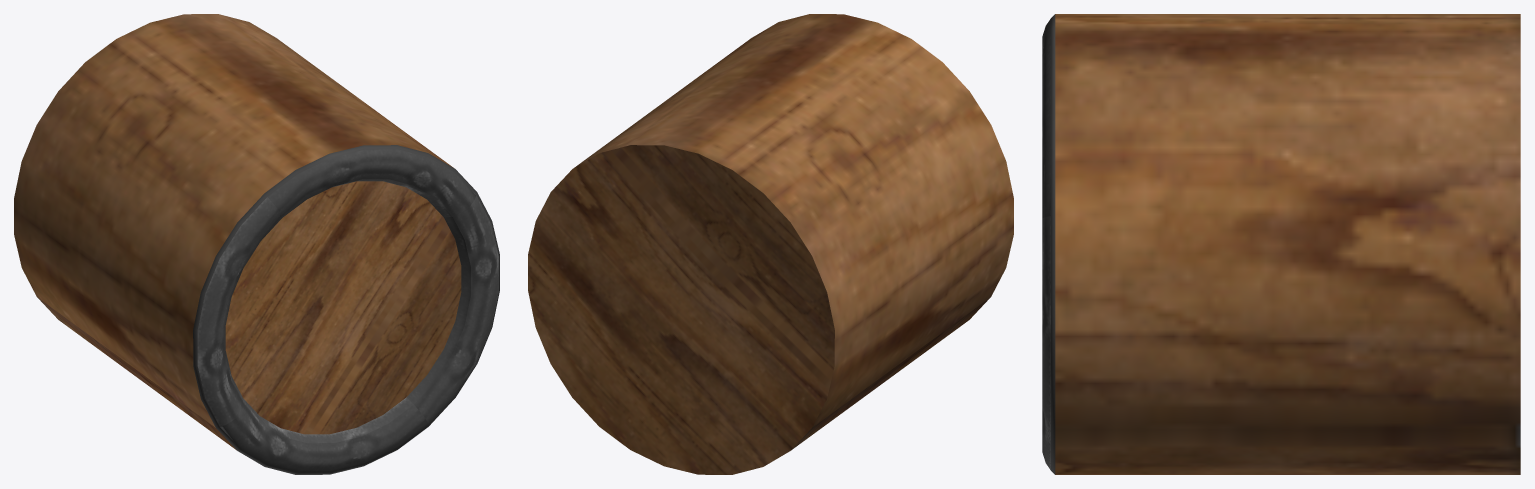
The model's file is 61_ELM_CircleRock.fbx.
The picture shows the model from 3 angles, left to right: view 1: azimuth 30°, elevation 25°; view 2: azimuth 150°, elevation 25°; view 3: azimuth 270°, elevation 25°; orthographic projection. The views are drawn at different scales.
Visible parts, largest first — view 1: CircleRock; view 2: CircleRock; view 3: CircleRock.
Part boxes in pixels (bbox=[...]): CircleRock: bbox=[14, 14, 499, 474]; CircleRock: bbox=[528, 14, 1013, 474]; CircleRock: bbox=[1042, 14, 1520, 474].
Size of the model in its own units: 1.08 by 1.08 by 1.13.
